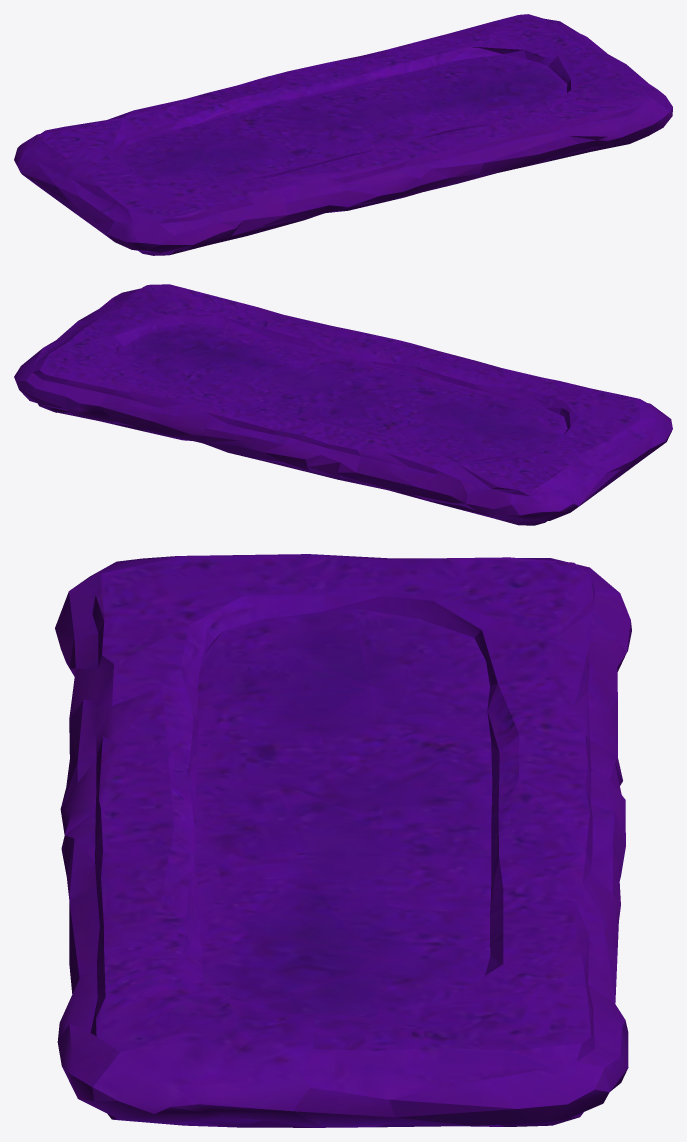
File: rug.glb
The picture shows the model from 3 angles, top to bottom: view 1: azimuth 30°, elevation 25°; view 2: azimuth 150°, elevation 25°; view 3: azimuth 270°, elevation 25°; orthographic projection. The views are drawn at different scales.
Bounding box in the file's own units: 1.9 × 0.1344 × 0.8499.
Materials: 1 (1 with a texture image).
